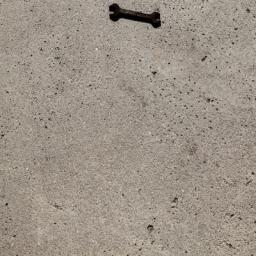FOD: (108, 1, 166, 29)
